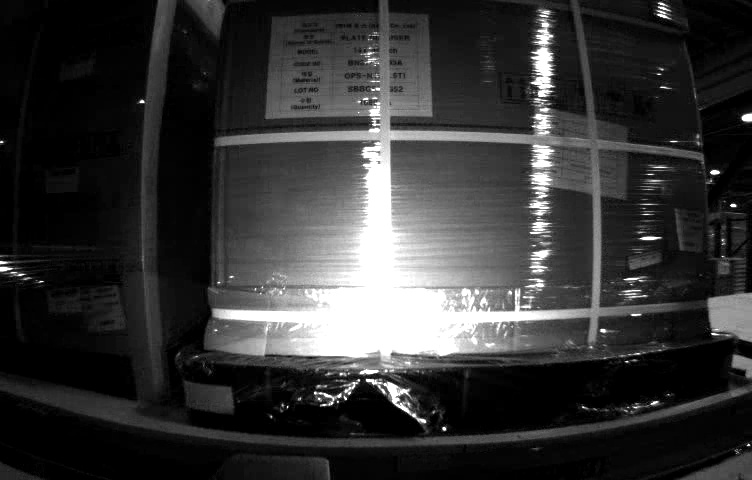True Barcode: (83, 289, 125, 330), (673, 205, 705, 255)
